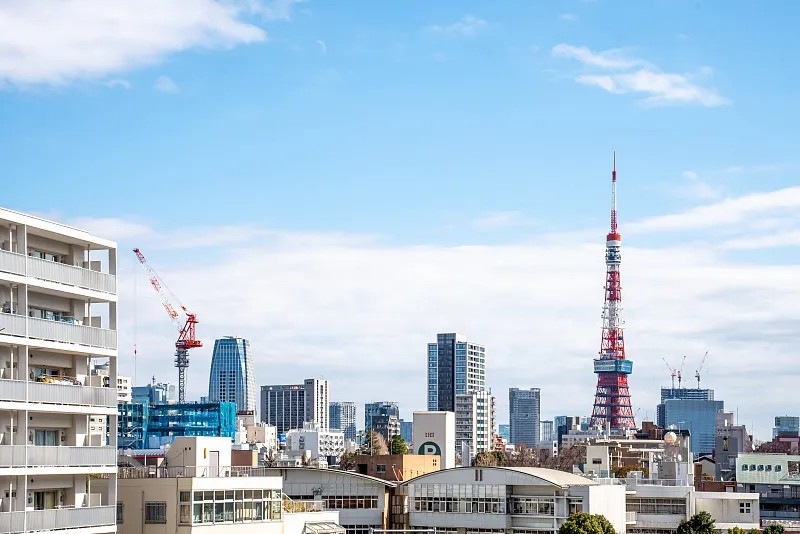Tokyo: (589, 150, 638, 431)
